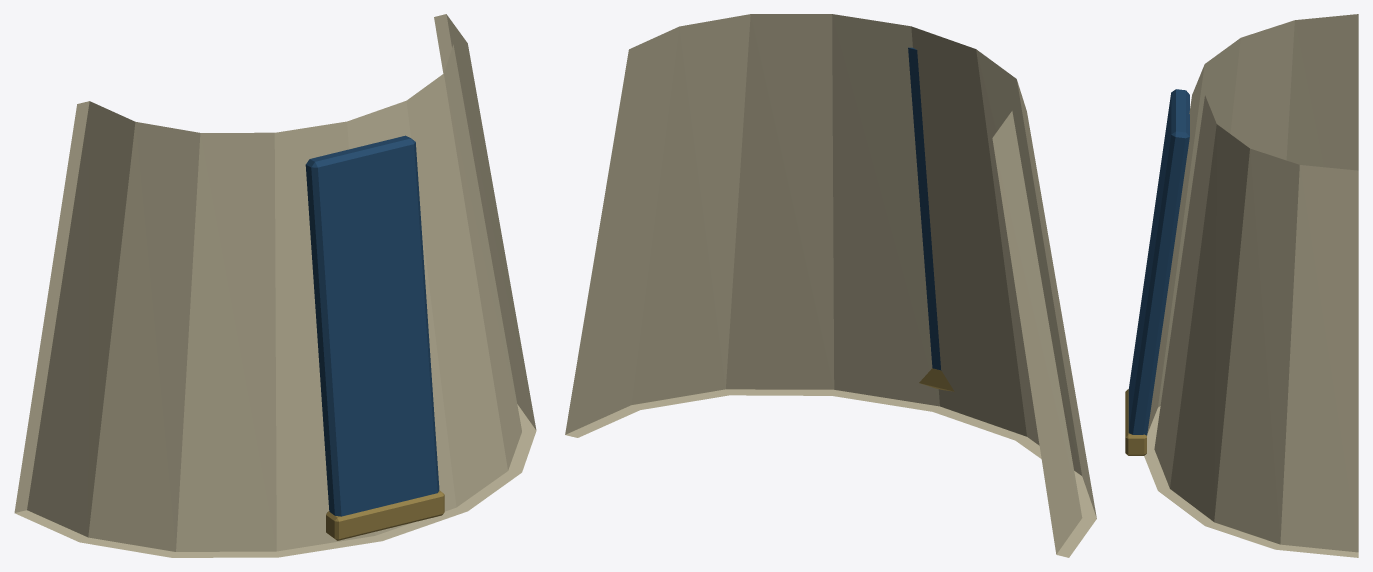
File: RobeBack.glb
3 views of the same model, side by side, from view 1: azimuth 30°, elevation 25°; view 2: azimuth 150°, elevation 25°; view 3: azimuth 270°, elevation 25° (orthographic). The views are drawn at different scales.
Parts seen in each view (by area): view 1: Sculpture; view 2: Sculpture; view 3: Sculpture.
Part boxes in pixels (x1=…): Sculpture: x1=14, y1=14, x2=536, y2=557; Sculpture: x1=565, y1=14, x2=1096, y2=557; Sculpture: x1=1125, y1=14, x2=1358, y2=557.
Bounding box in the file's own units: 0.71 × 0.54 × 0.322.
